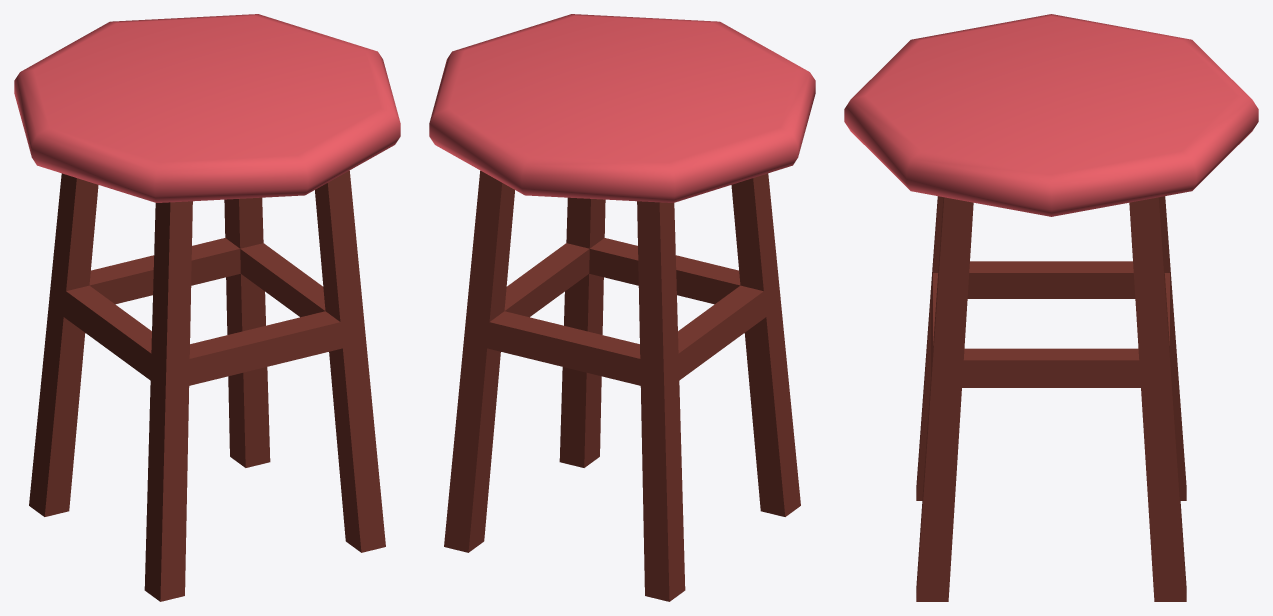
Rendered from GAMEJAMHERO - Prop(Stool).fbx.
3 renders of one model, left to right at view 1: azimuth 30°, elevation 25°; view 2: azimuth 150°, elevation 25°; view 3: azimuth 270°, elevation 25°, orthographic. The views are drawn at different scales.
Visible parts, largest first — view 1: Plane.001; view 2: Plane.001; view 3: Plane.001.
Boxes of the visible parts, x1,y1,x2,y2 form: Plane.001: (14, 14, 400, 601); Plane.001: (429, 14, 815, 601); Plane.001: (844, 14, 1258, 601).
Size of the model in its own units: 57.2 by 68.01 by 56.76.
Materials: 1 (1 with a texture image).
